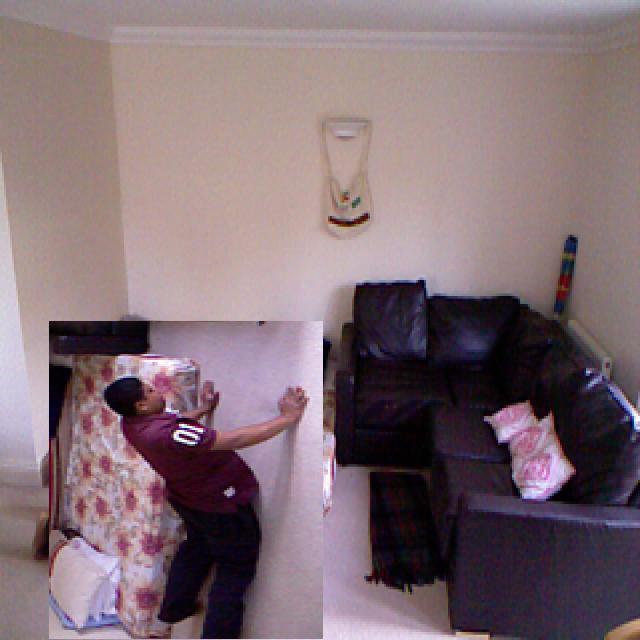Fall: (73, 330, 335, 640)
